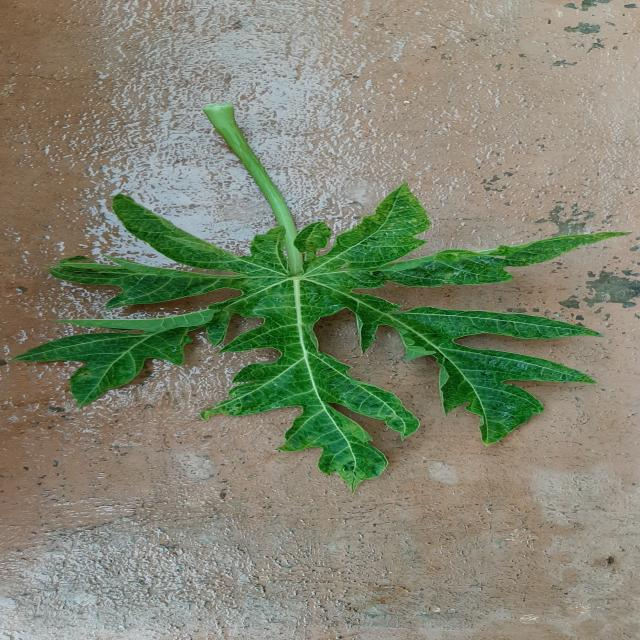papaya: (92, 185, 618, 480)
